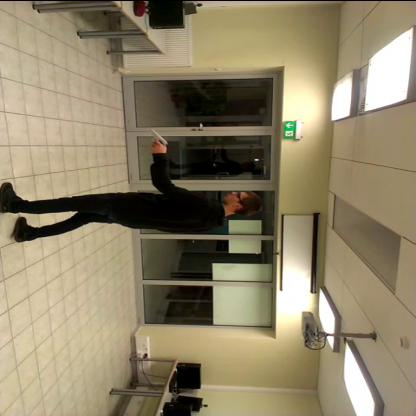Pistol: (142, 124, 178, 150)
